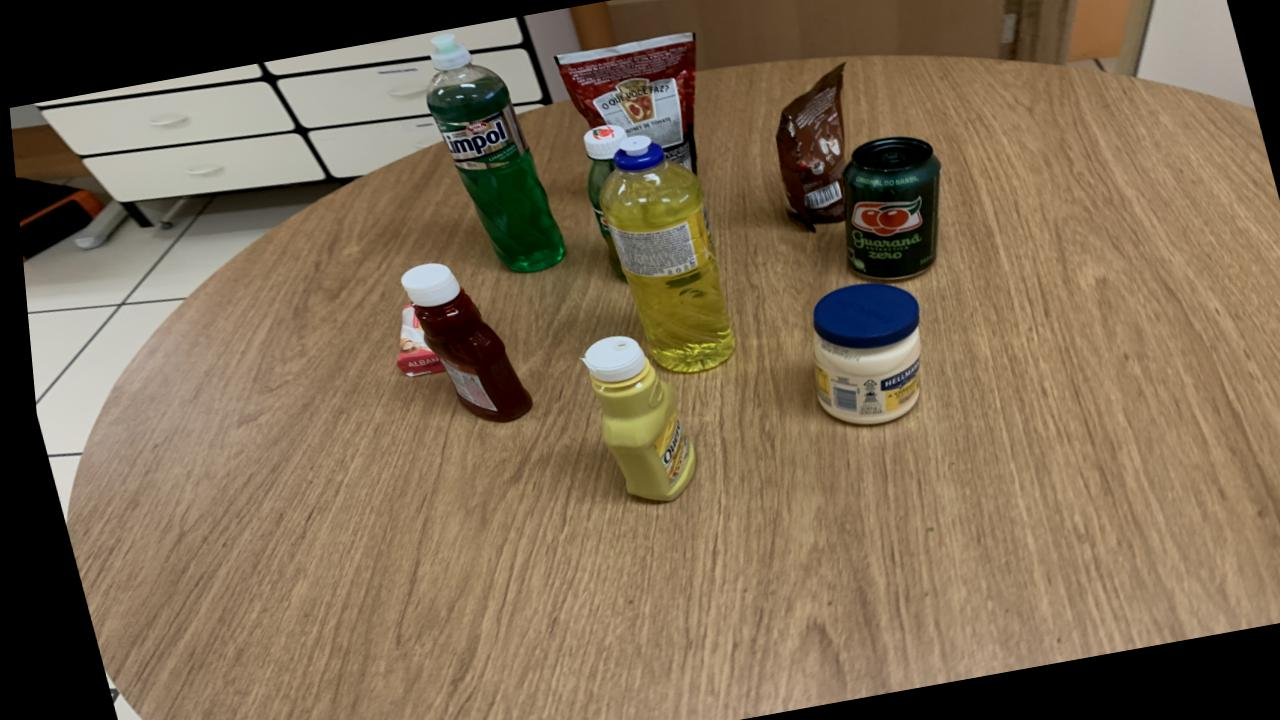Coffee-Pantry_Items: (773, 62, 844, 231)
Detergent-Cleanup_Items: (423, 33, 560, 273), (595, 134, 729, 373)
Guarana-Drinks: (580, 124, 625, 280)
Guarana_Can-Drinks: (839, 136, 938, 281)
Ketchup-Pantry_Items: (394, 262, 526, 422)
Mayonnaise-Pantry_Items: (806, 282, 915, 425)
Mustard-Pantry_Items: (576, 335, 687, 501)
Soap-Cleanup_Items: (389, 304, 436, 376)
Tomato_Sauce-Pantry_Items: (555, 32, 696, 170)
